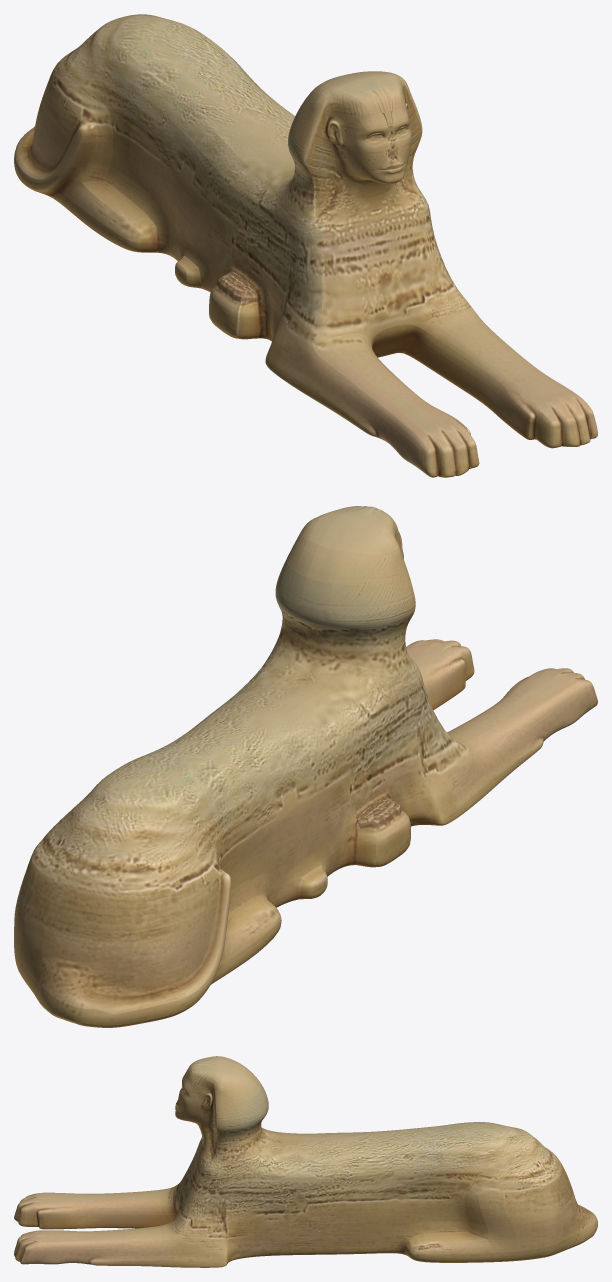
Rendered from Esfinge.FBX.
3 renders of one model, top to bottom at view 1: azimuth 30°, elevation 25°; view 2: azimuth 150°, elevation 25°; view 3: azimuth 270°, elevation 25°, orthographic. The views are drawn at different scales.
Visible parts, largest first — view 1: 10085_egyptSphinx; view 2: 10085_egyptSphinx; view 3: 10085_egyptSphinx.
Part boxes in pixels (x1,y1,x2,y2): 10085_egyptSphinx: (14, 14, 597, 477); 10085_egyptSphinx: (14, 506, 597, 1027); 10085_egyptSphinx: (14, 1056, 597, 1267).
Bounding box in the file's own units: 1455 × 1996 × 5994.
Materials: 1 (1 with a texture image).
